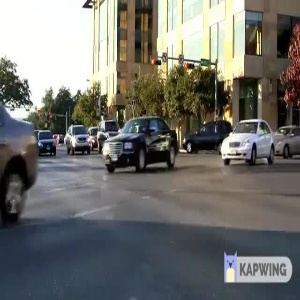car: (96, 113, 177, 176), (219, 115, 275, 168)
